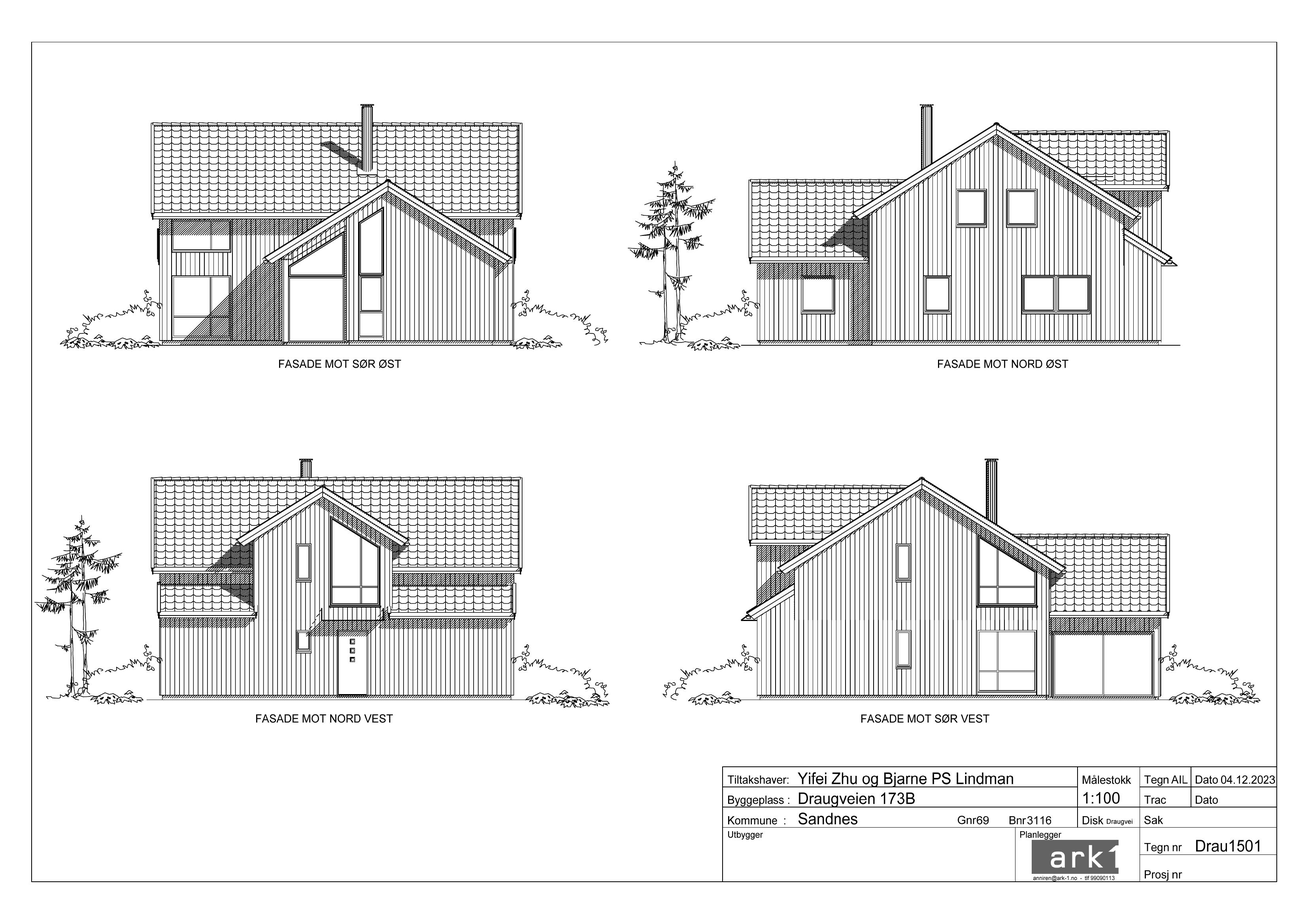fasade: (739, 457, 1172, 704), (746, 104, 1179, 350), (148, 457, 526, 702), (149, 103, 525, 347)
